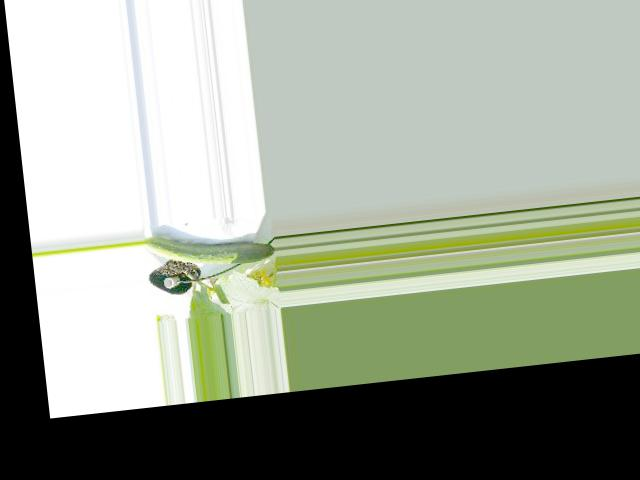cucumber: (141, 223, 275, 273)
